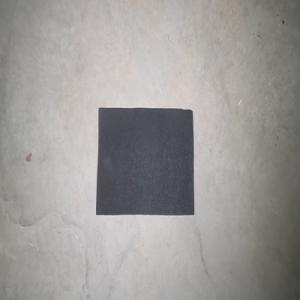PaintChip: (95, 107, 194, 215)
